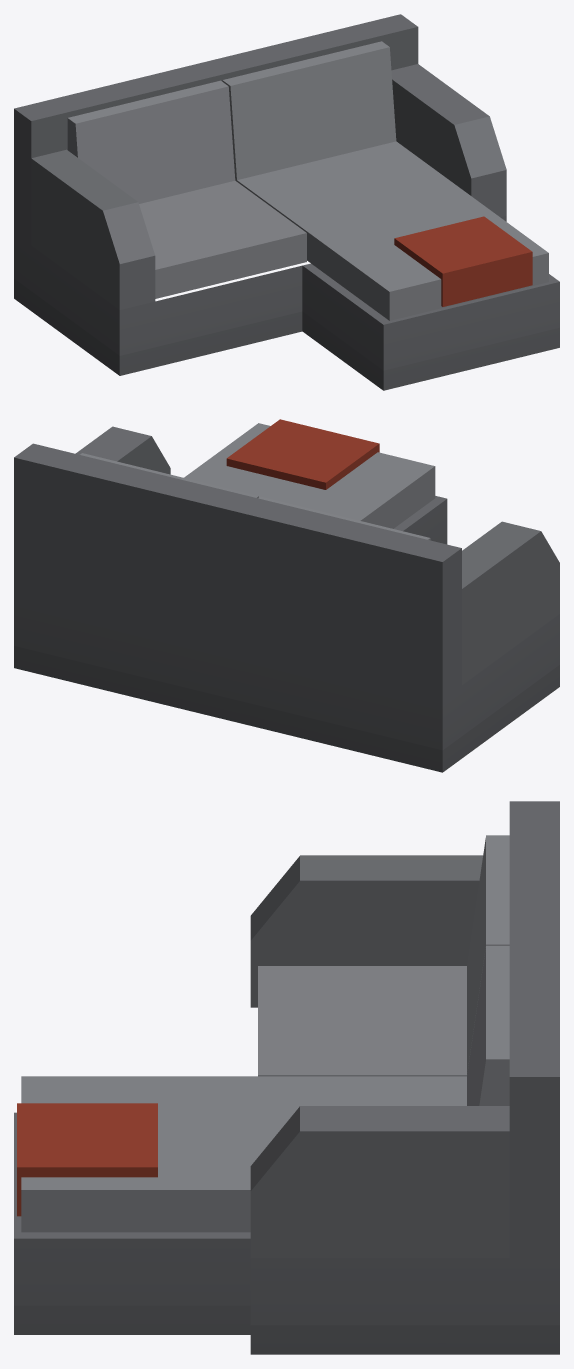
File: sofa.corner.grey.glb
3 views of the same model, one above another, from view 1: azimuth 30°, elevation 25°; view 2: azimuth 150°, elevation 25°; view 3: azimuth 270°, elevation 25° (orthographic). The views are drawn at different scales.
Parts seen in each view (by area): view 1: sofa_corner_grey; view 2: sofa_corner_grey; view 3: sofa_corner_grey.
Boxes of the visible parts, bbox=[...] form: sofa_corner_grey: bbox=[14, 14, 559, 390]; sofa_corner_grey: bbox=[14, 419, 559, 772]; sofa_corner_grey: bbox=[14, 801, 559, 1354].
Size of what is drawn, in the model's own units: 1.81 by 0.85 by 1.51.
